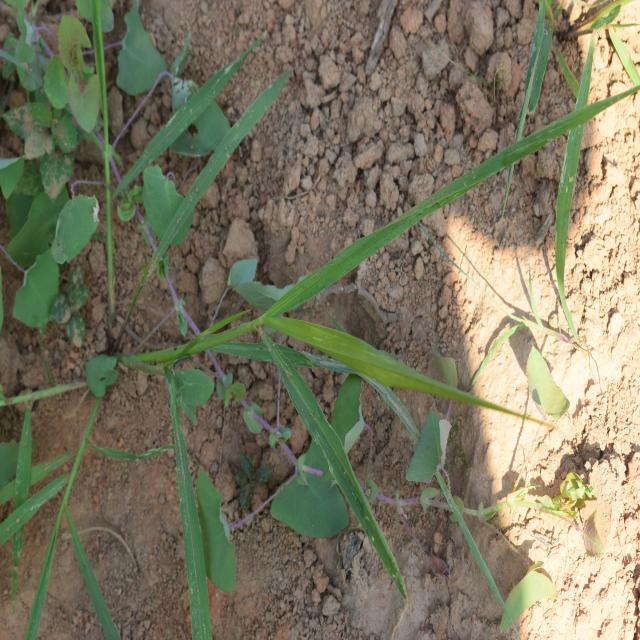green_foxtail: (181, 180, 476, 514)
